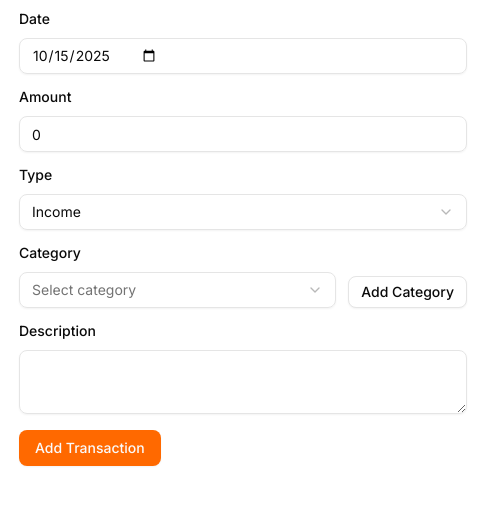
it: CreateTransactionForm › should show validation errors for invalid inputs
Click the button "Add Transaction".
click(90, 448)  # box left=19, top=430, right=161, bottom=466
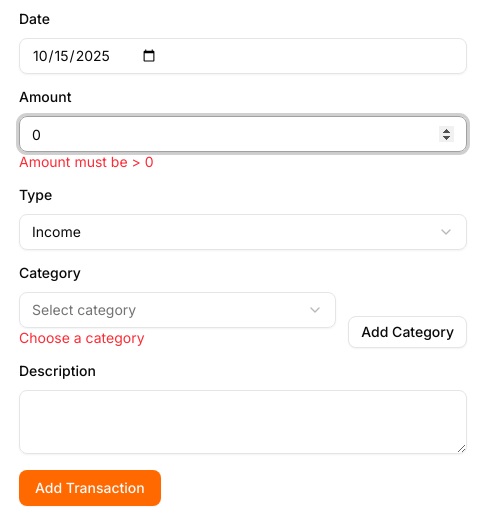
Result: the text "Amount must be > 0" is shown at left=19, top=153, right=154, bottom=170
